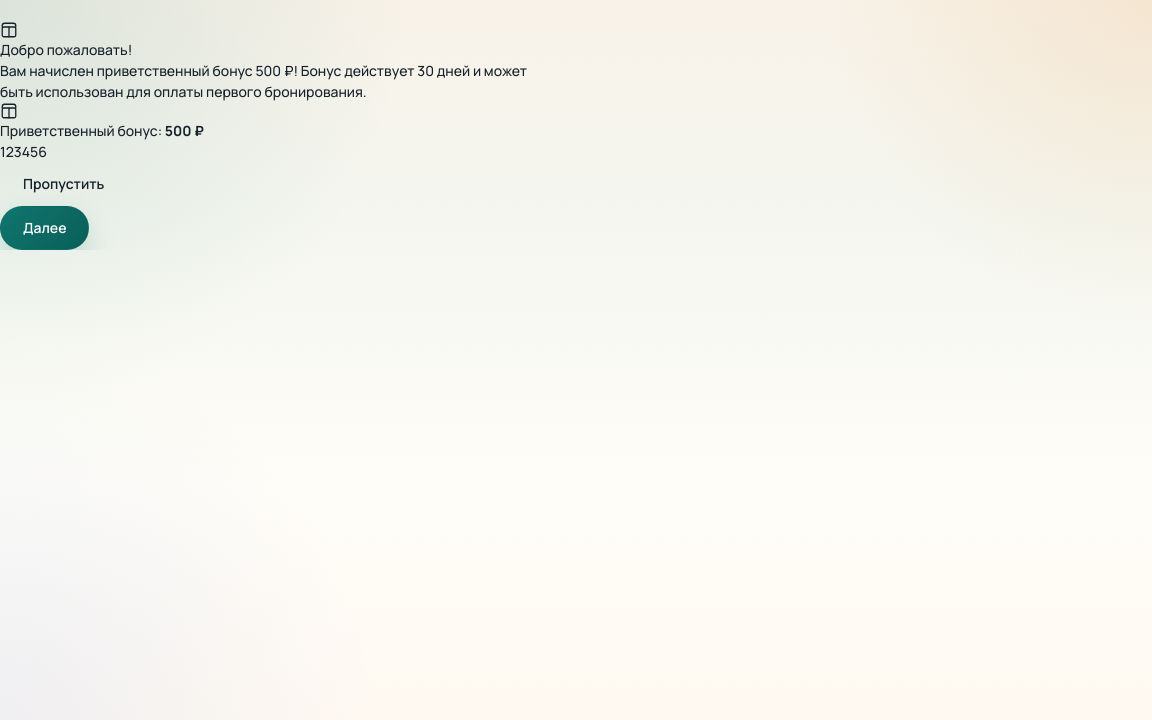
Test case: OnboardingTour › includes nearby recommendations step
Step 1. Click the button "Далее" → (45, 228), box [0,206,90,250]
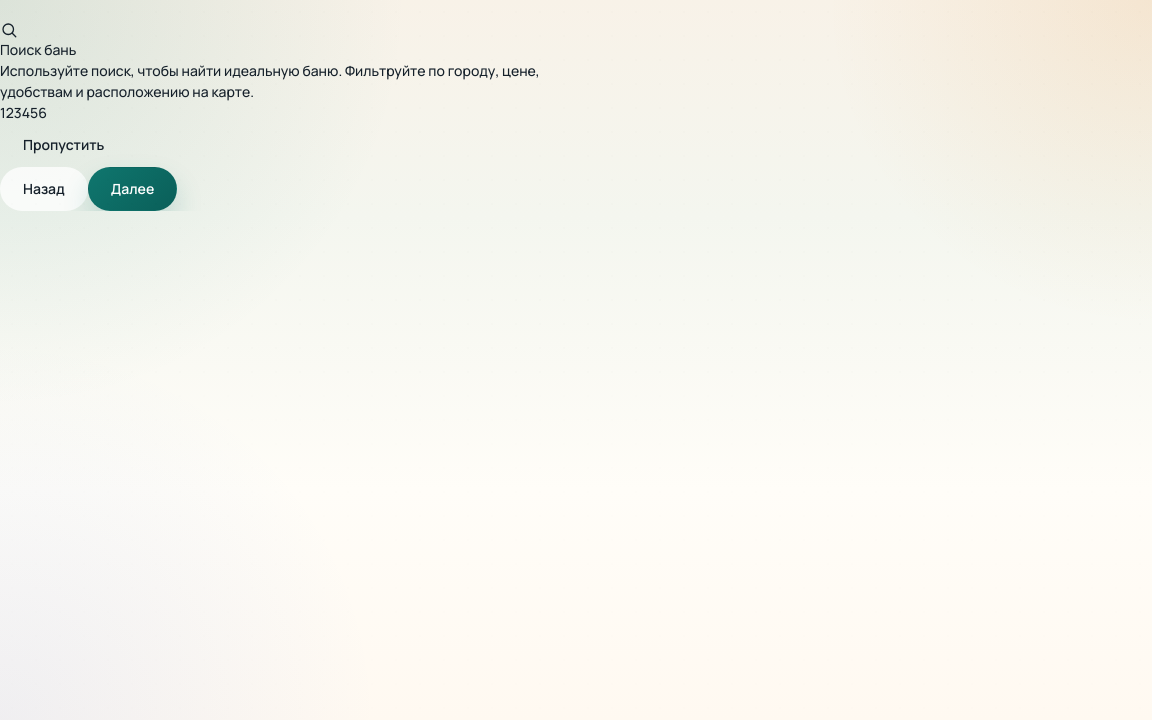
Step 2. Click the button "Далее" → (133, 189), box [88,167,177,211]
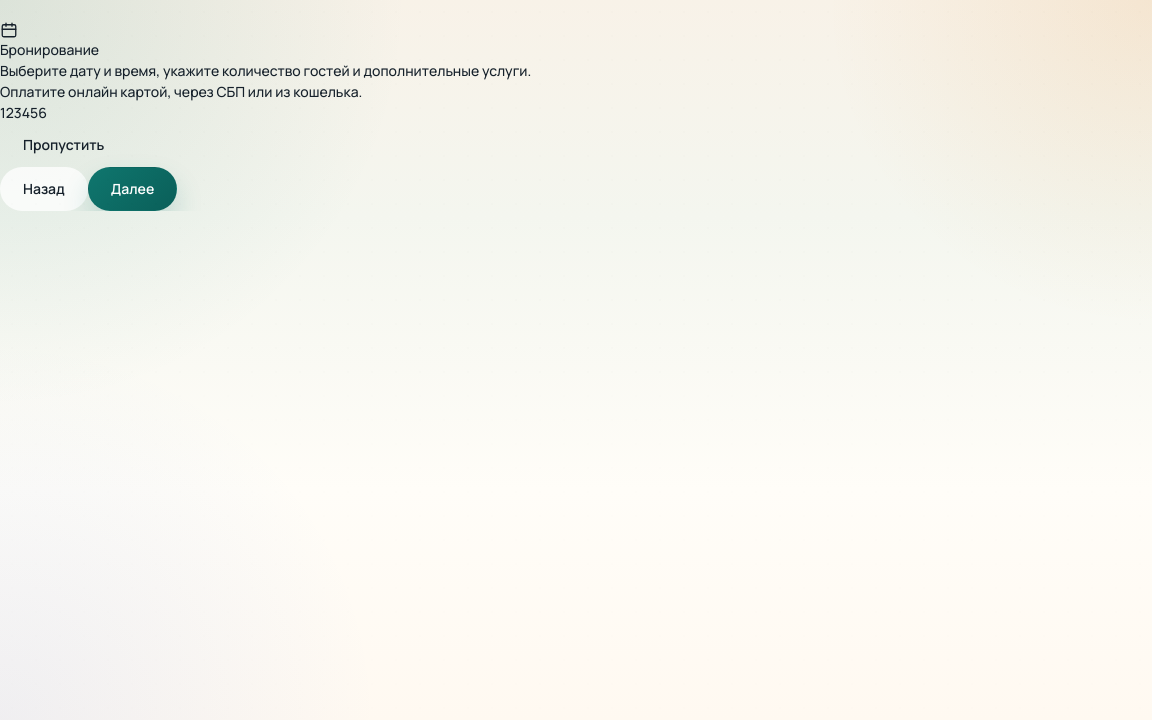
Step 3. Click the button "Далее" → (133, 189), box [88,167,177,211]
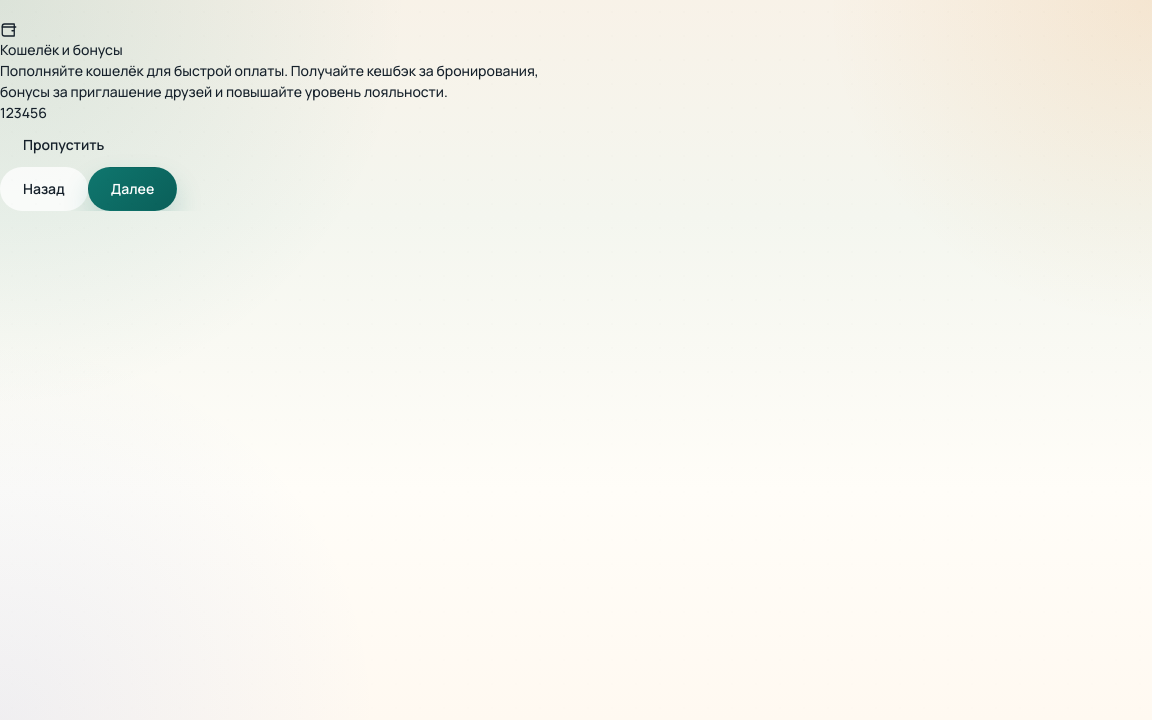
Step 4. Click the button "Далее" → (133, 189), box [88,167,177,211]
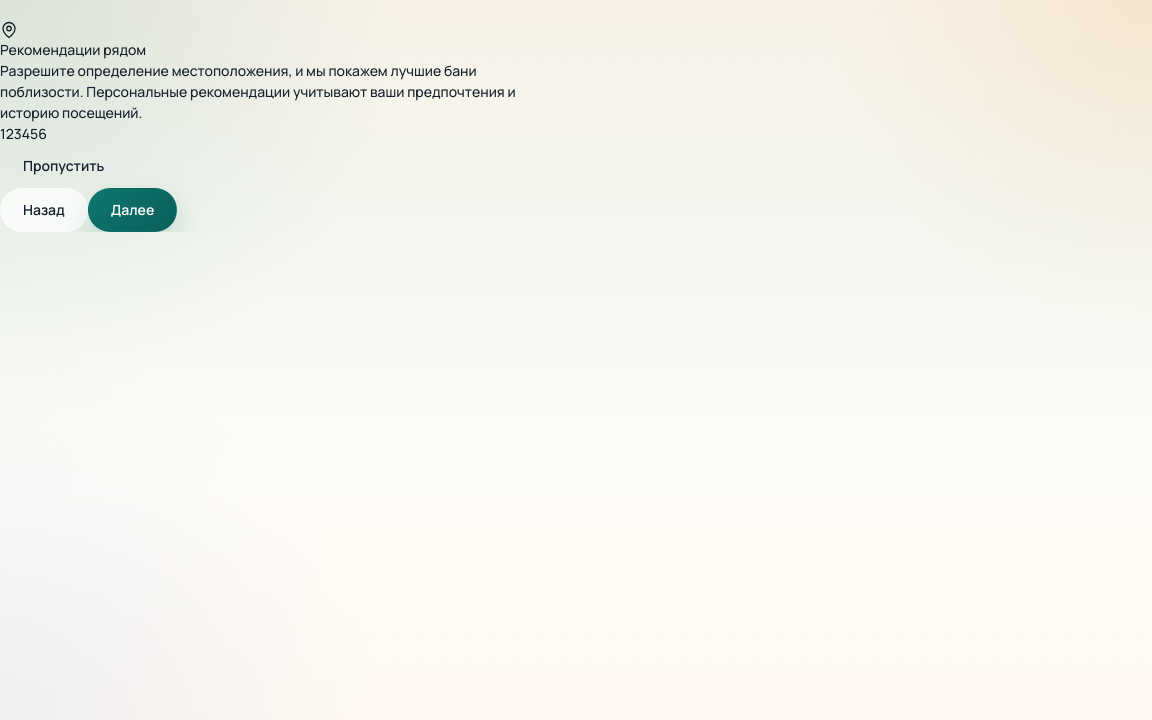
Now the heading "Рекомендации рядом" is shown, box [0,40,146,59]
Now the text "местоположени" is shown, box [0,61,516,122]
